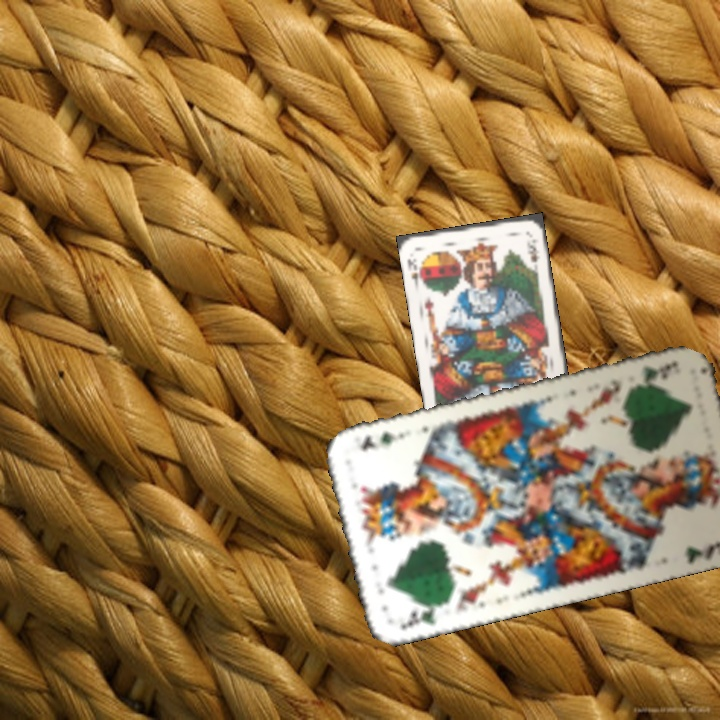GK: (631, 355, 684, 388), (397, 599, 447, 633)
SK: (403, 254, 427, 289)
